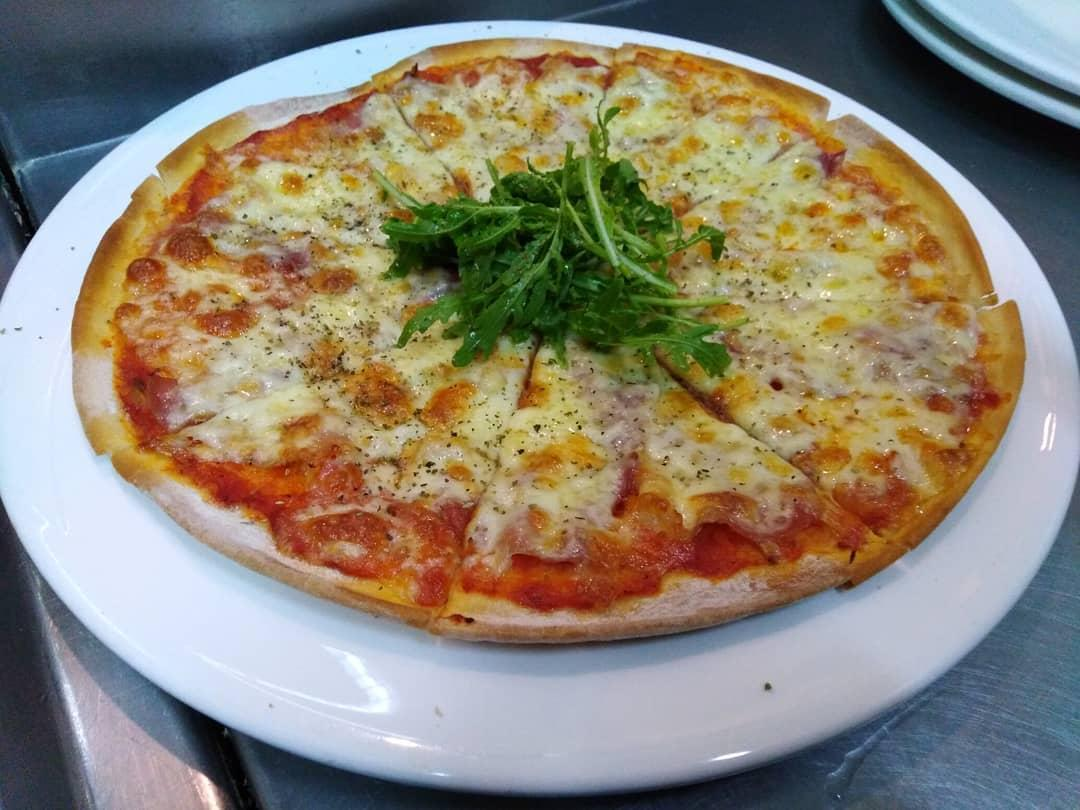Basil: (378, 126, 732, 370)
Pizza: (69, 40, 1015, 627)
